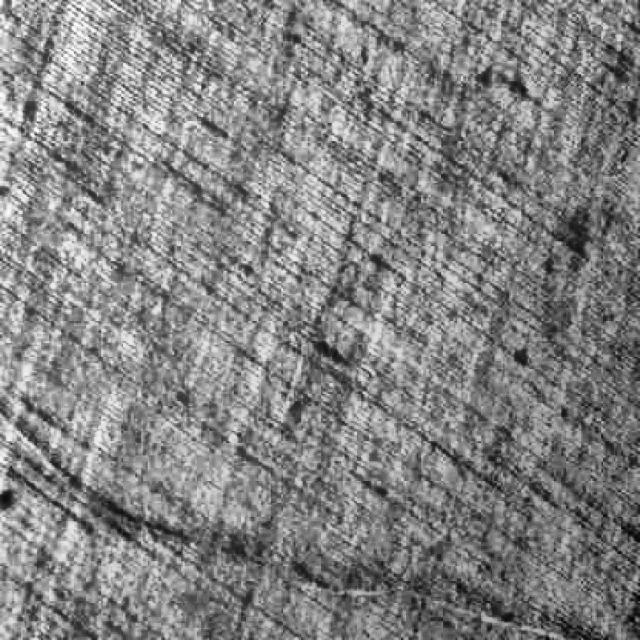objects: (0, 398, 564, 640)
